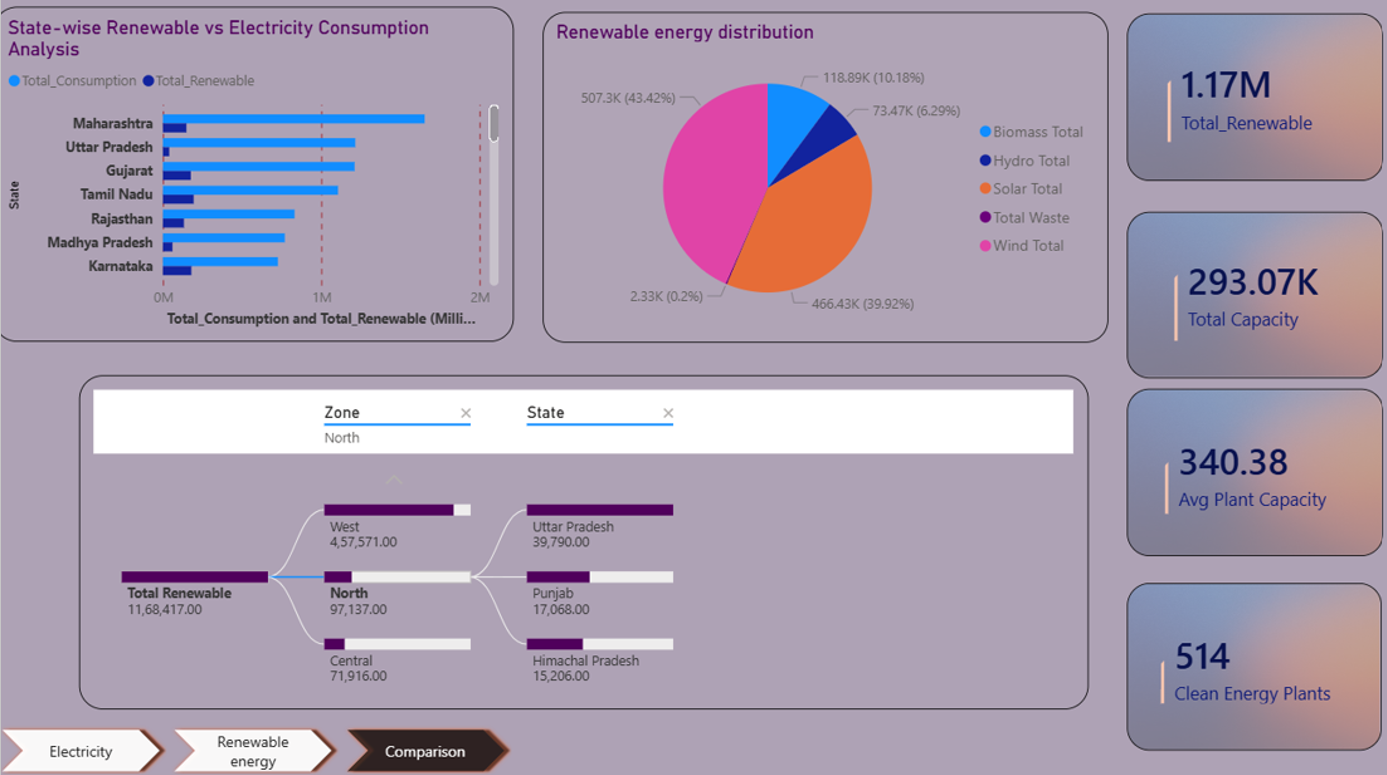

This screenshot's page, from the dashboard's own definition file:
{"tool":"powerbi","page":{"name":"Comparison","canvas":[1280,720],"ordinal":2},"visuals":[{"type":"image","box":[1029.6,533.8,226.2,149],"z":0},{"type":"image","box":[1029.6,360.4,227.6,149],"z":1000},{"type":"image","box":[1029.6,203.2,227.6,147.7],"z":2000},{"type":"image","box":[1029.6,27.1,227.6,149],"z":3000},{"type":"cardVisual","fields":{"Data":["Fuel Categories.Clean_Energy_Plants"]},"box":[1031,546,234.4,123.3],"z":4000},{"type":"cardVisual","fields":{"Data":["India Power Plants.Total Capacity"]},"box":[1043.2,203.2,220.8,145],"z":5000},{"type":"cardVisual","fields":{"Data":["Fuel Categories.Avg_Plant_Capacity"]},"box":[1035.1,369.9,223.5,131.4],"z":6000},{"type":"cardVisual","fields":{"Data":["Fuel Categories.Total_Renewable1"]},"box":[1036.4,31.2,227.6,140.9],"z":7000},{"type":"clusteredBarChart","title":"State-wise Renewable vs Electricity  Consumption Analysis","fields":{"Category":["India Renewable Consumption.State"],"Y":["Fuel Categories.Total_Consumption","Fuel Categories.Total_Renewable"]},"box":[22.9,21.7,462.1,298],"z":8000},{"type":"pageNavigator","box":[23.8,657.1,460.7,50],"z":10000},{"type":"pieChart","title":"Renewable energy distribution","fields":{"Y":["India Renewable Consumption.Biomass Total","India Renewable Consumption.Hydro Total","India Renewable Consumption.Solar Total","India Renewable Consumption.Total Waste","India Renewable Consumption.Wind Total"]},"box":[510.7,26.5,502.4,293.5],"z":11000},{"type":"decompositionTreeVisual","fields":{"ExplainBy":["India Renewable Consumption.Zone","India Renewable Consumption.State"],"Analyze":["India Renewable Consumption.Total Renewable"]},"box":[67.6,347.5,746.8,296.8],"z":12000}]}

Visuals, with their boxes in screenshot pixels (x1, y1, x2, y2), scaled from the page's 1280x720 canvas onto the 1387x775 screenshot:
image: {"x1": 1116, "y1": 575, "x2": 1361, "y2": 735}
image: {"x1": 1116, "y1": 388, "x2": 1362, "y2": 548}
image: {"x1": 1116, "y1": 219, "x2": 1362, "y2": 378}
image: {"x1": 1116, "y1": 29, "x2": 1362, "y2": 190}
cardVisual - Fuel Categories.Clean_Energy_Plants: {"x1": 1117, "y1": 588, "x2": 1371, "y2": 720}
cardVisual - India Power Plants.Total Capacity: {"x1": 1130, "y1": 219, "x2": 1370, "y2": 375}
cardVisual - Fuel Categories.Avg_Plant_Capacity: {"x1": 1122, "y1": 398, "x2": 1364, "y2": 540}
cardVisual - Fuel Categories.Total_Renewable1: {"x1": 1123, "y1": 34, "x2": 1370, "y2": 185}
"State-wise Renewable vs Electricity  Consumption Analysis" clusteredBarChart: {"x1": 25, "y1": 23, "x2": 526, "y2": 344}
pageNavigator: {"x1": 26, "y1": 707, "x2": 525, "y2": 761}
"Renewable energy distribution" pieChart: {"x1": 553, "y1": 29, "x2": 1098, "y2": 344}
decompositionTreeVisual - India Renewable Consumption.Zone x India Renewable Consumption.State: {"x1": 73, "y1": 374, "x2": 882, "y2": 694}
